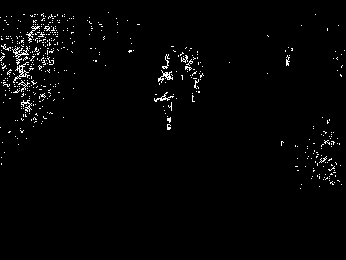person: (154, 64, 177, 132)
